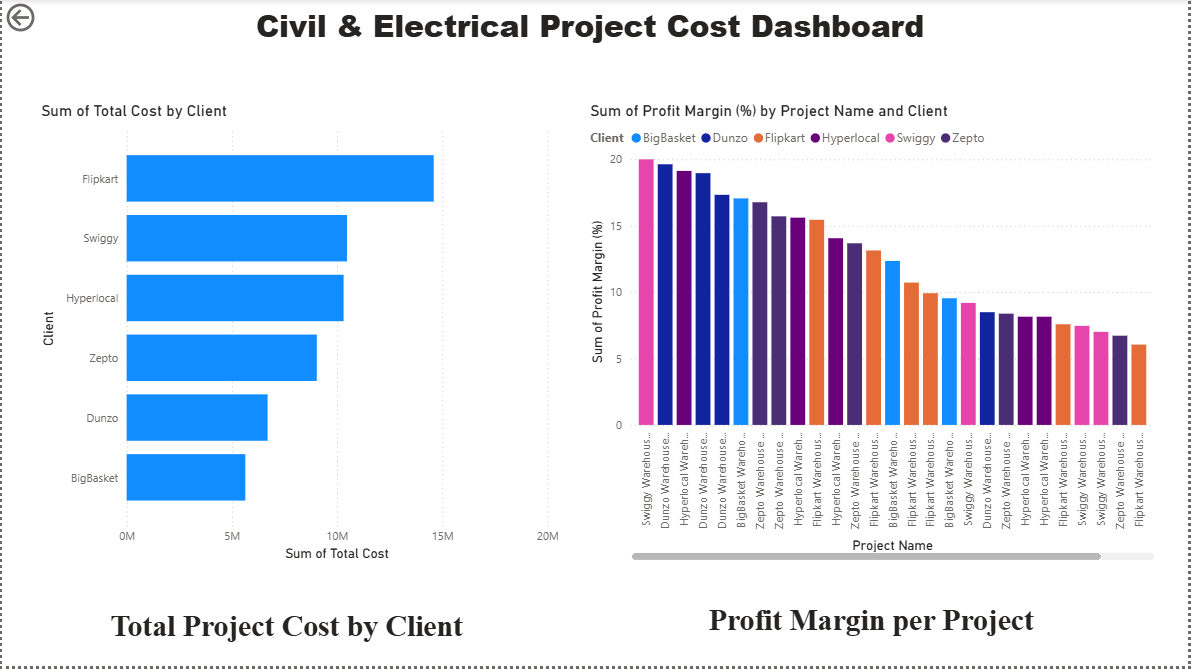

Layout of this report page (visuals, bound fields, positions):
{"tool":"powerbi","page":{"name":"Page 2","canvas":[1280,720],"ordinal":1},"visuals":[{"type":"clusteredBarChart","fields":{"Y":["Sum(cleaned_warehouse_projects.Total Cost)"],"Category":["cleaned_warehouse_projects.Client"]},"box":[37.2,110.1,568.3,500.3],"z":0},{"type":"textbox","box":[9.7,634.7,539.2,71.2],"z":1000},{"type":"textbox","box":[56.7,0,1156.1,100.4],"z":2000},{"type":"textbox","box":[663.9,646.1,548.9,59.9],"z":3000},{"type":"columnChart","fields":{"Y":["Sum(cleaned_warehouse_projects.Profit Margin (%))"],"Category":["cleaned_warehouse_projects.Project Name"],"Series":["cleaned_warehouse_projects.Client"]},"box":[629.9,110.1,618.5,500.3],"z":4000},{"type":"actionButton","box":[0,0,100,40],"z":5000}]}

Visuals, with their boxes in screenshot pixels (x1, y1, x2, y2), scaled from the page's 1280x720 canvas onto the 1192x672 screenshot:
clusteredBarChart - Sum(cleaned_warehouse_projects.Total Cost) x cleaned_warehouse_projects.Client: (35, 103, 564, 570)
textbox: (9, 592, 511, 659)
textbox: (53, 0, 1129, 94)
textbox: (618, 603, 1129, 659)
columnChart - Sum(cleaned_warehouse_projects.Profit Margin (%)) x cleaned_warehouse_projects.Project Name: (587, 103, 1163, 570)
actionButton: (0, 0, 93, 37)
